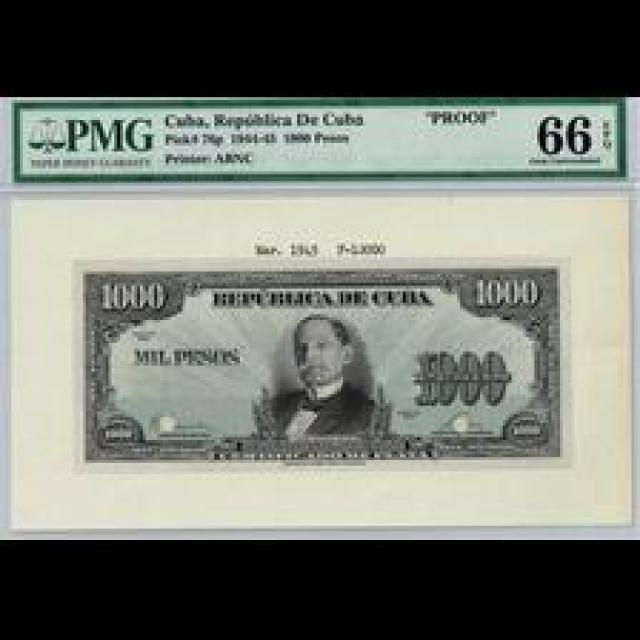banknote: (76, 263, 566, 470)
